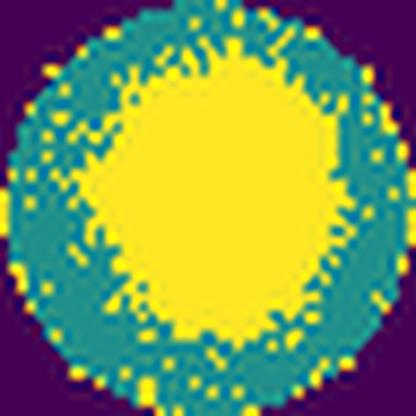Center: (82, 49, 340, 340)
